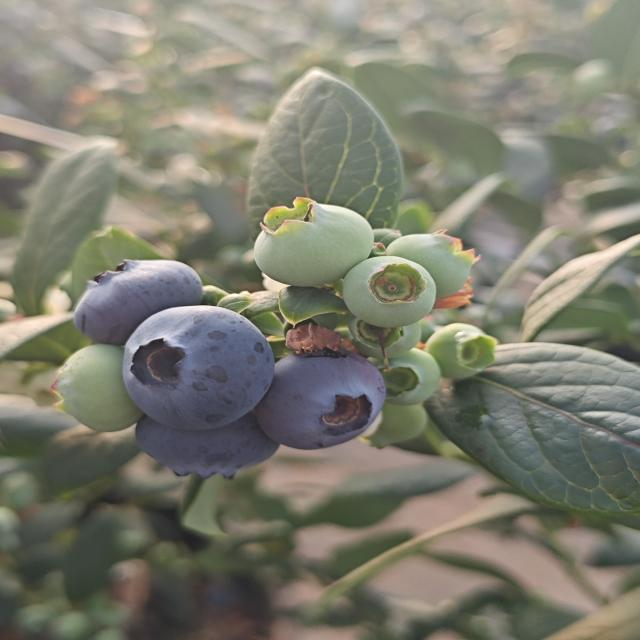ripe: (120, 303, 278, 432), (70, 257, 206, 346), (260, 352, 384, 445), (134, 412, 279, 476)
